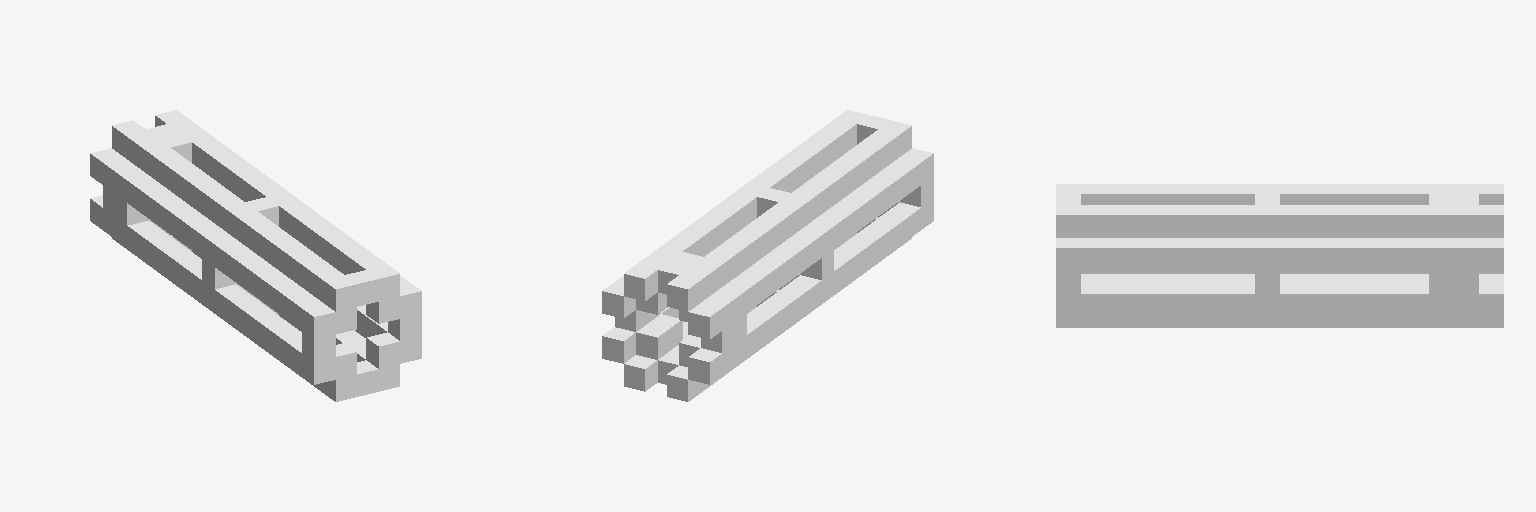
The model's file is Minigun5.obj.
The picture shows the model from 3 angles: view 1: azimuth 30°, elevation 25°; view 2: azimuth 150°, elevation 25°; view 3: azimuth 270°, elevation 25°; orthographic projection.
Parts seen in each view (by area): view 1: object 1; view 2: object 1; view 3: object 1.
Part boxes in pixels (left/top/right/bottom): object 1: left=90, top=110, right=421, bottom=401; object 1: left=602, top=110, right=933, bottom=401; object 1: left=1056, top=184, right=1503, bottom=327.
Bounding box in the file's own units: 0.5 × 0.5 × 1.8.